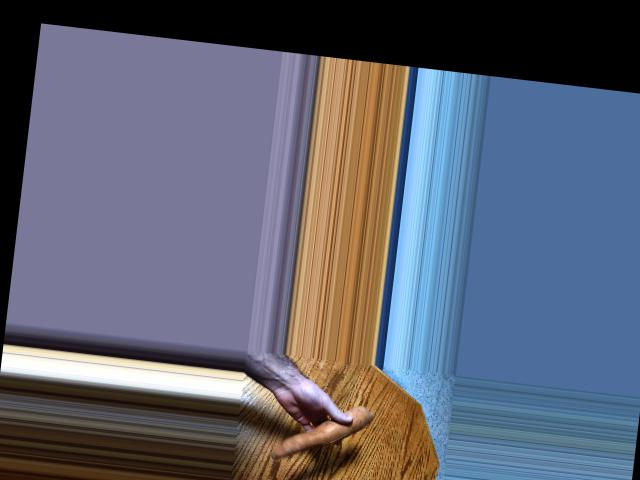sweet_potato: (272, 400, 384, 463)
